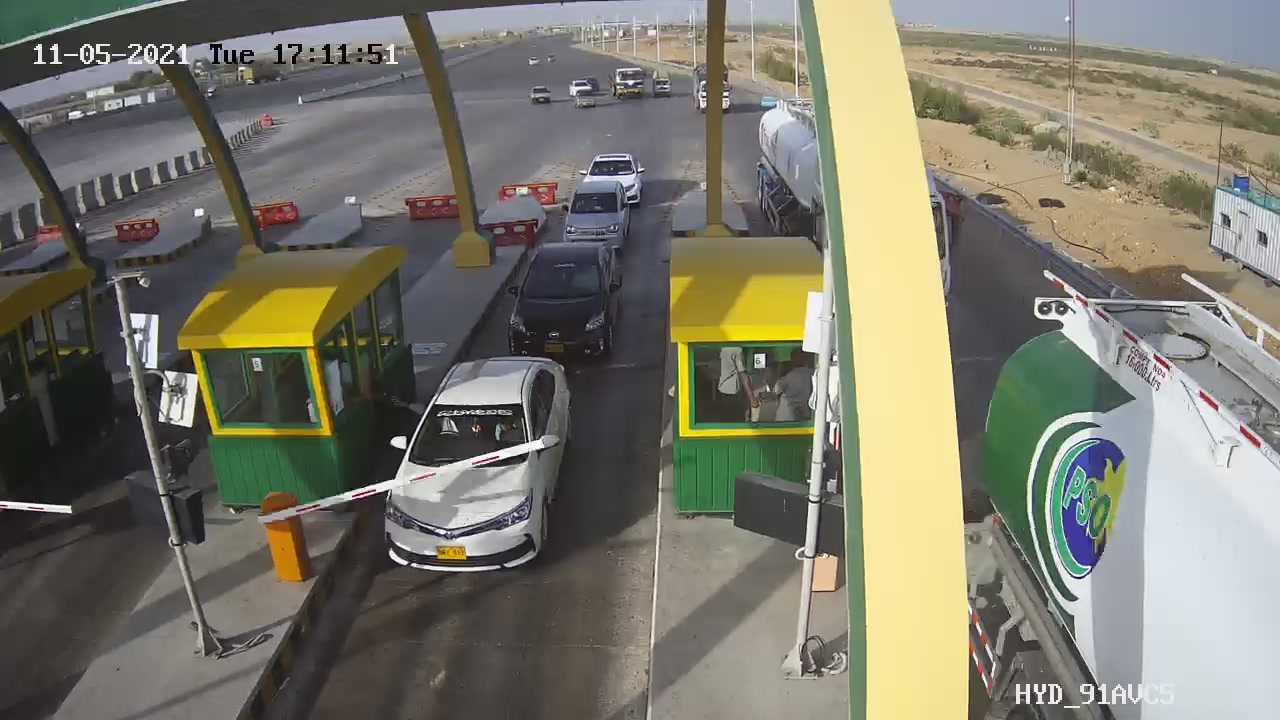F1: (361, 339, 598, 599), (489, 231, 639, 382), (547, 170, 638, 259)
